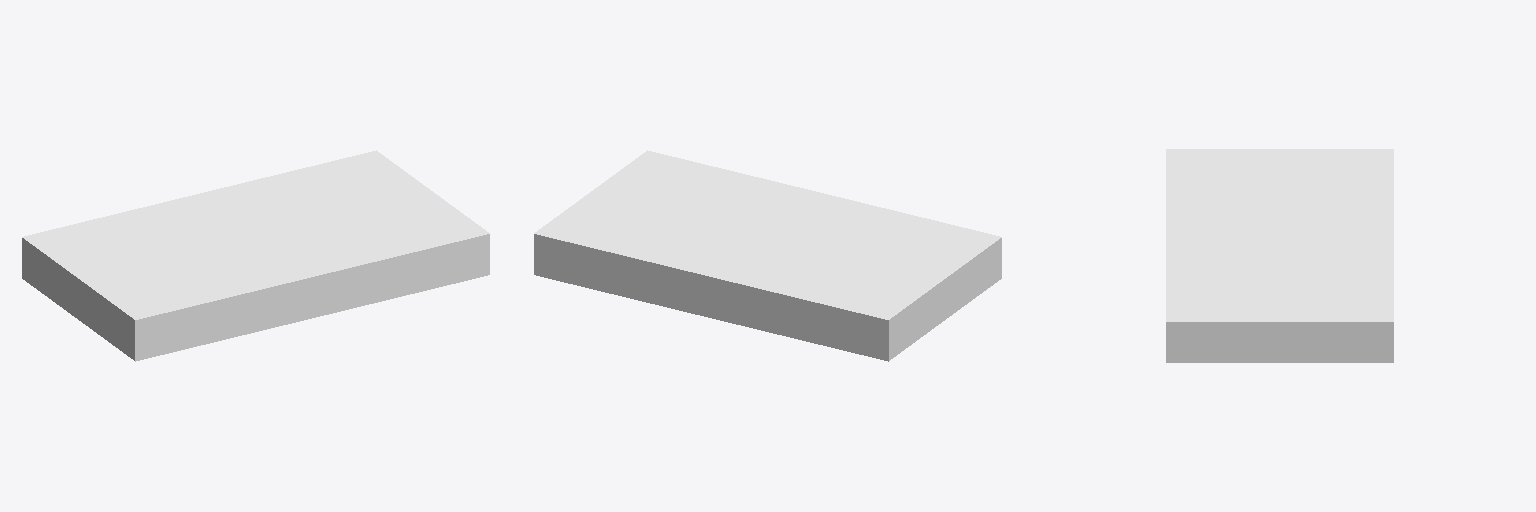
File: RoadRainbow.obj
3 views of the same model, side by side, from view 1: azimuth 30°, elevation 25°; view 2: azimuth 150°, elevation 25°; view 3: azimuth 270°, elevation 25° (orthographic).
Bounding box in the file's own units: 9 × 1 × 5.